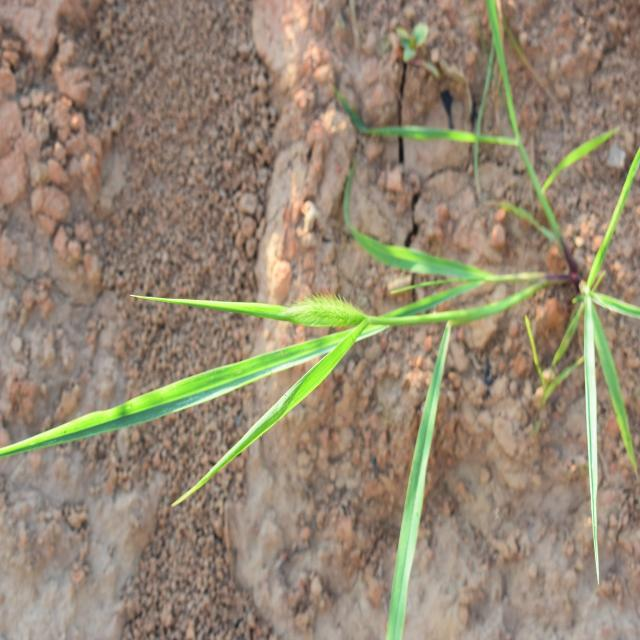green_foxtail: (81, 226, 507, 558), (541, 164, 639, 485)
